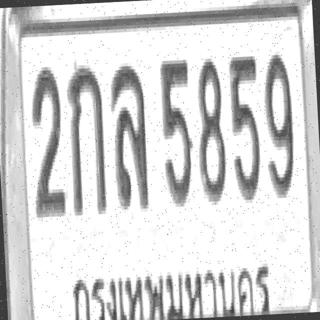A01: (66, 61, 108, 216)
A36: (109, 62, 150, 210)
N02: (28, 63, 66, 218)
N05: (158, 56, 195, 207), (228, 51, 262, 202)
N08: (194, 54, 227, 202)
N09: (262, 51, 296, 198)
